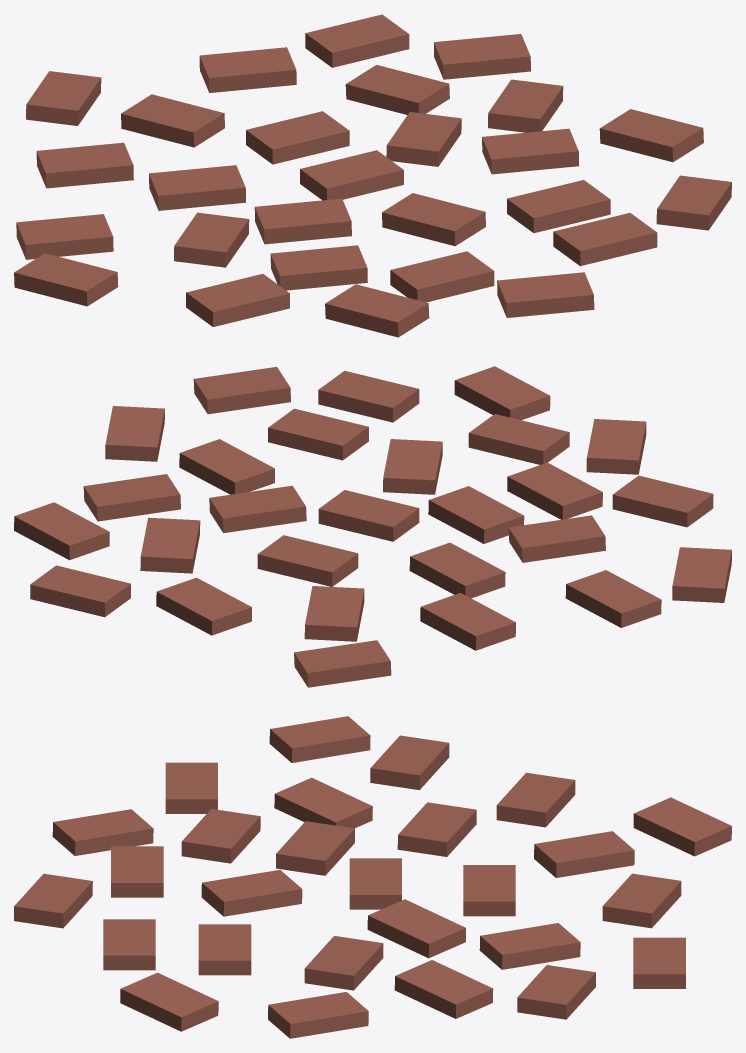
File: bacon.glb
3 renders of one model, top to bottom at view 1: azimuth 30°, elevation 25°; view 2: azimuth 150°, elevation 25°; view 3: azimuth 270°, elevation 25°, orthographic. The views are drawn at different scales.
Parts seen in each view (by area): view 1: trozos_bacon_cocinado; view 2: trozos_bacon_cocinado; view 3: trozos_bacon_cocinado.
Boxes of the visible parts, box(x1,y1,x2,y2) form: trozos_bacon_cocinado: box(14, 14, 731, 337); trozos_bacon_cocinado: box(14, 366, 731, 687); trozos_bacon_cocinado: box(14, 716, 731, 1038).
Size of the model in its own units: 1.56 by 0.0553 by 1.51.
